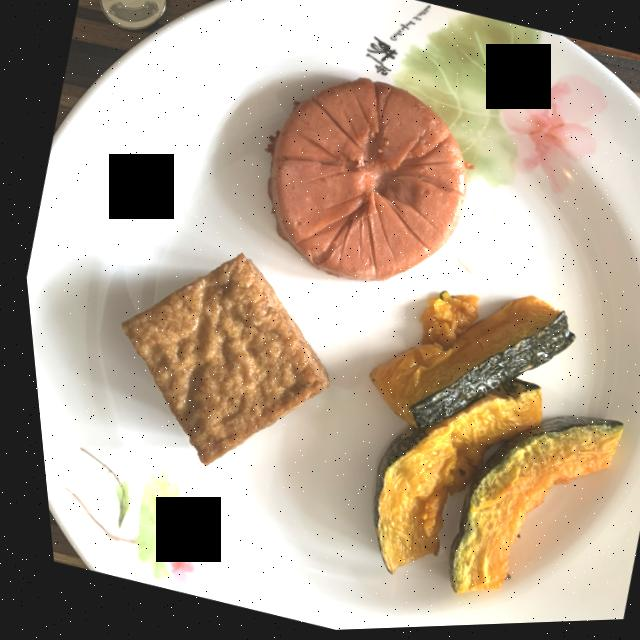Spam: (264, 79, 465, 282)
coin: (99, 0, 166, 29)
egg tofu: (115, 254, 321, 466)
pumpkin: (362, 293, 613, 595)
